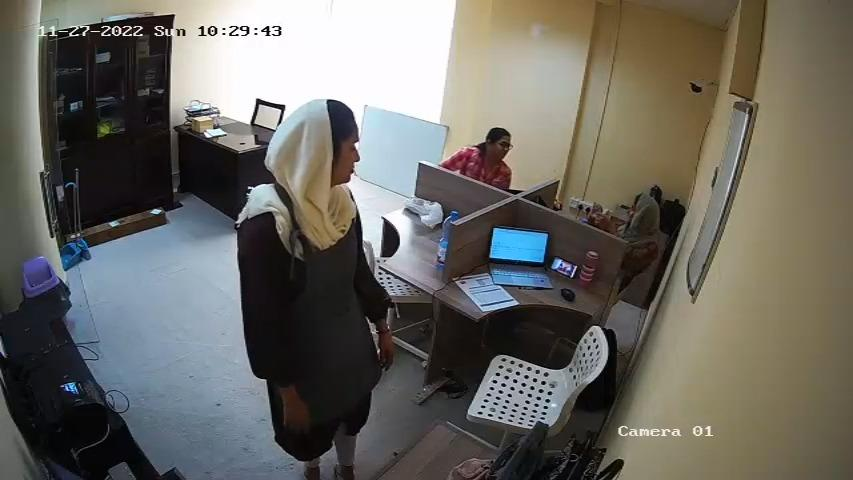apron: (275, 199, 366, 378)
